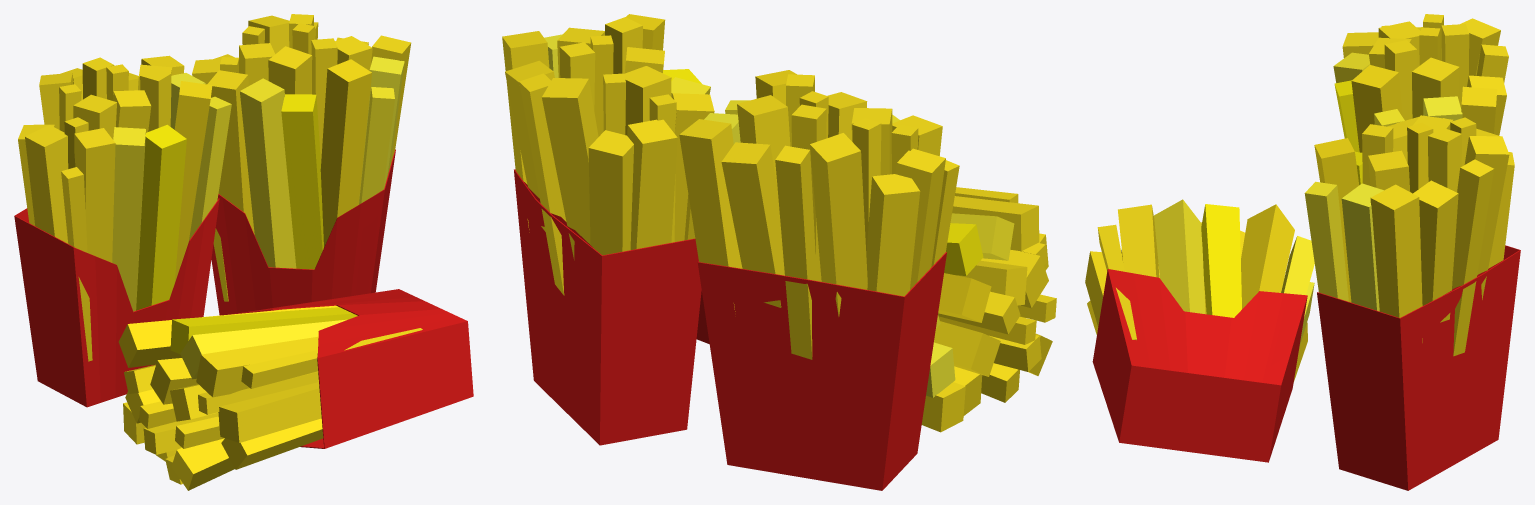
Rendered from kentang.fbx.
3 views of the same model, side by side, from view 1: azimuth 30°, elevation 25°; view 2: azimuth 150°, elevation 25°; view 3: azimuth 270°, elevation 25° (orthographic). The views are drawn at different scales.
Parts seen in each view (by area): view 1: Cube.066, Cube.044, Cube.025, Cube.019, Cube.032, Cube.022, Cube.013, Cube.038, Cube.039, Cube.047, Cube.003, Cube.041 (+40 smaller); view 2: Cube.044, Cube.025, Cube.036, Cube.035, Cube.030, Cube.029, Cube.017, Cube.033, Cube.006, Cube.014, Cube.011, Cube.003 (+38 smaller); view 3: Cube.025, Cube.066, Cube.010, Cube.011, Cube.060, Cube.054, Cube.016, Cube.063, Cube.012, Cube.005, Cube.017, Cube.061 (+26 smaller).
Boxes of the visible parts, box(x1,y1,x2,y2) form: Cube.066: box(230, 289, 473, 448); Cube.044: box(14, 198, 219, 407); Cube.025: box(211, 149, 395, 315); Cube.019: box(239, 78, 296, 268); Cube.032: box(136, 124, 186, 310); Cube.022: box(320, 59, 371, 247); Cube.013: box(281, 94, 323, 269); Cube.038: box(112, 127, 145, 311); Cube.039: box(74, 128, 115, 262); Cube.047: box(218, 382, 321, 442); Cube.003: box(25, 124, 68, 243); Cube.041: box(174, 81, 212, 283); Cube.044: box(697, 252, 946, 490); Cube.025: box(514, 169, 701, 445); Cube.036: box(810, 133, 867, 316); Cube.035: box(721, 142, 784, 307); Cube.030: box(775, 145, 816, 359); Cube.029: box(679, 119, 742, 311); Cube.017: box(542, 78, 598, 260); Cube.033: box(866, 174, 920, 296); Cube.006: box(627, 119, 677, 249); Cube.014: box(588, 130, 633, 255); Cube.011: box(519, 73, 566, 295); Cube.003: box(895, 148, 945, 289); Cube.025: box(1317, 245, 1520, 490); Cube.066: box(1092, 269, 1307, 462); Cube.010: box(1370, 184, 1422, 342); Cube.011: box(1452, 159, 1494, 356); Cube.060: box(1154, 199, 1205, 313); Cube.054: box(1201, 204, 1241, 317); Cube.016: box(1413, 180, 1458, 322); Cube.063: box(1241, 204, 1294, 308); Cube.012: box(1304, 181, 1348, 301); Cube.005: box(1341, 183, 1383, 311); Cube.017: box(1464, 136, 1509, 299); Cube.061: box(1118, 204, 1159, 277).
Bounding box in the file's own units: 383 × 314 × 357.
